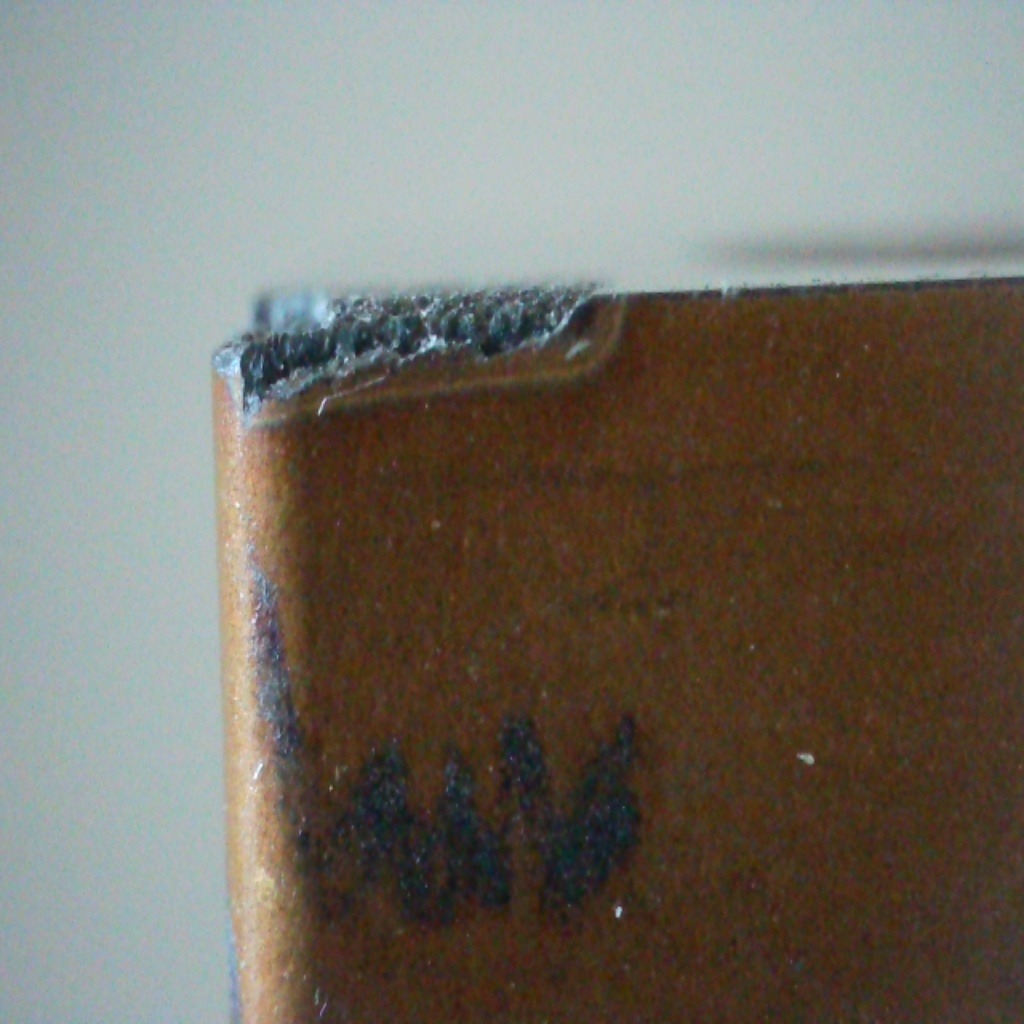flank_wear: (211, 285, 587, 423)
